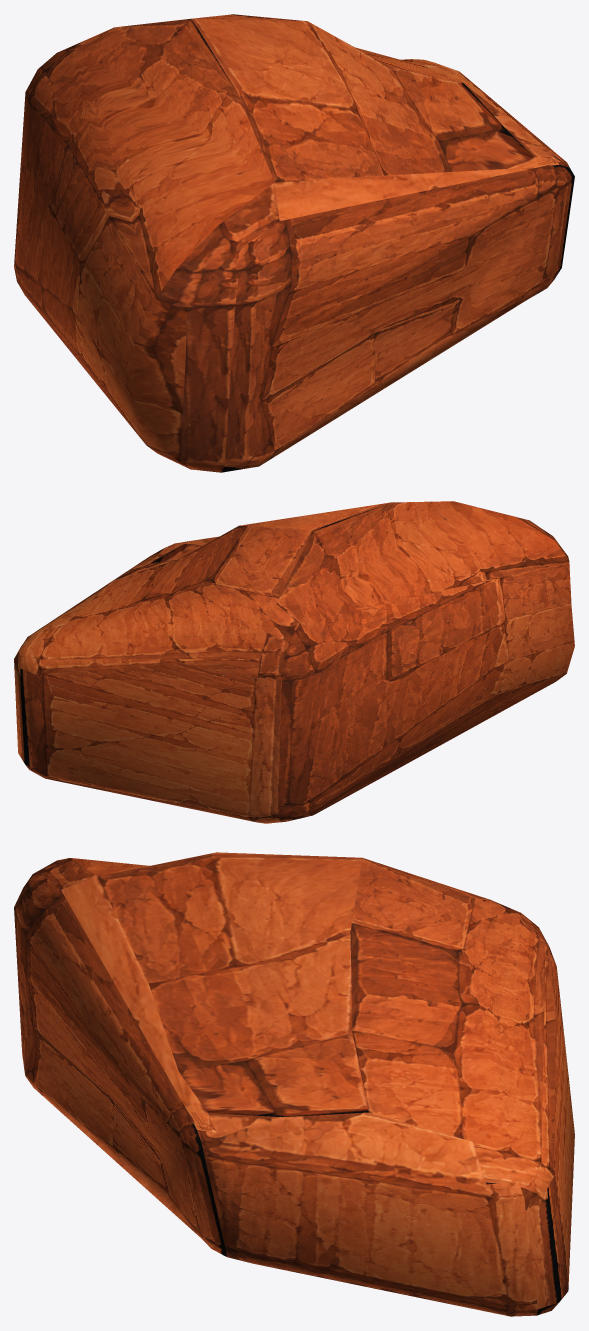
Rendered from Rock3.fbx.
3 views of the same model, one above another, from view 1: azimuth 30°, elevation 25°; view 2: azimuth 150°, elevation 25°; view 3: azimuth 270°, elevation 25° (orthographic). The views are drawn at different scales.
Visible parts, largest first — view 1: Cube.003; view 2: Cube.003; view 3: Cube.003.
Part boxes in pixels (<box>): Cube.003: <box>14,14,574,472</box>; Cube.003: <box>14,501,574,823</box>; Cube.003: <box>14,852,574,1316</box>.
Bounding box in the file's own units: 336 × 199 × 312.
1 material, 1 textured.
